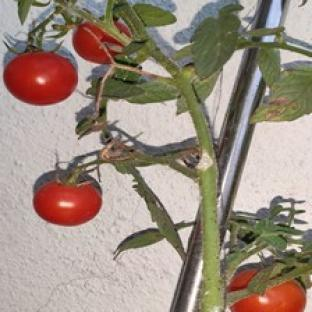Tomato: (3, 52, 77, 105), (34, 180, 101, 225), (230, 280, 306, 311), (73, 23, 123, 64)
